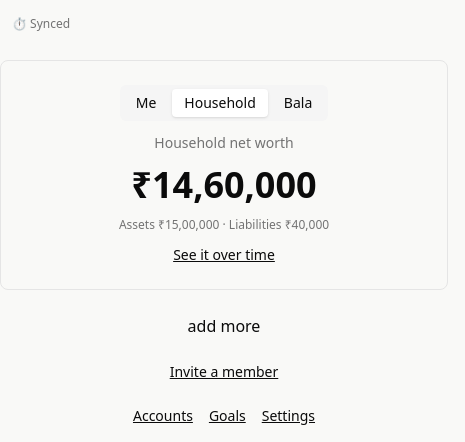
Scenario: Home › re-computes in place for Me and for each named member
Click the button "Me" at (146, 103), box [124,89,168,117]
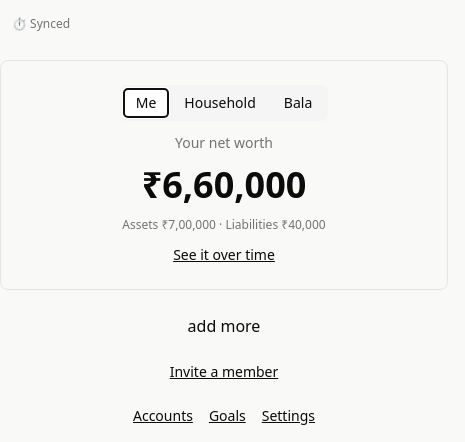
Result: the heading "Your net worth" is shown at [175,133,273,153]
Result: the text "₹6,60,000" is shown at [142,165,306,205]
Click the button "Bala" at (298, 103), box [272,89,324,117]
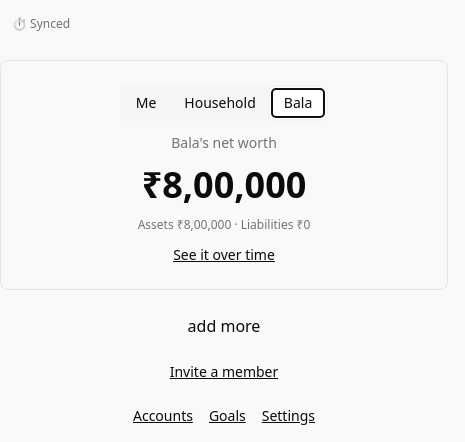
Result: the heading "Bala's net worth" is shown at [171,133,277,153]
Result: the text "₹8,00,000" is shown at [142,165,306,205]
